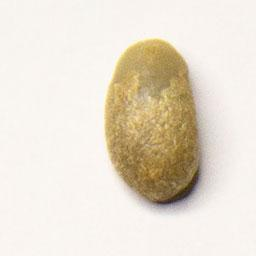longberry: (100, 35, 205, 207)
